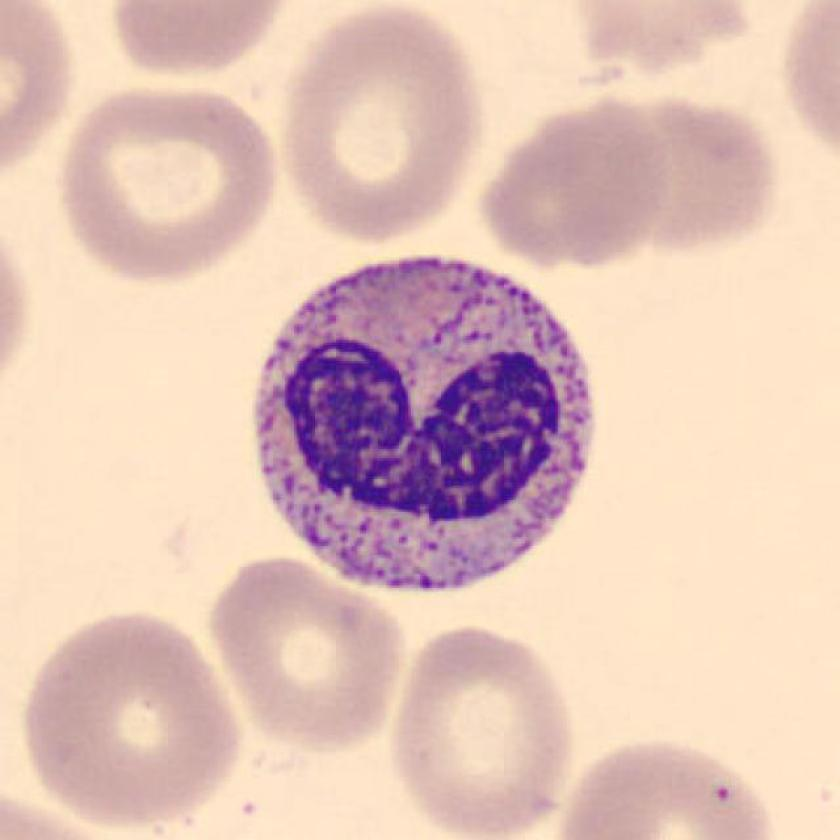neutrophil: (256, 260, 594, 591)
